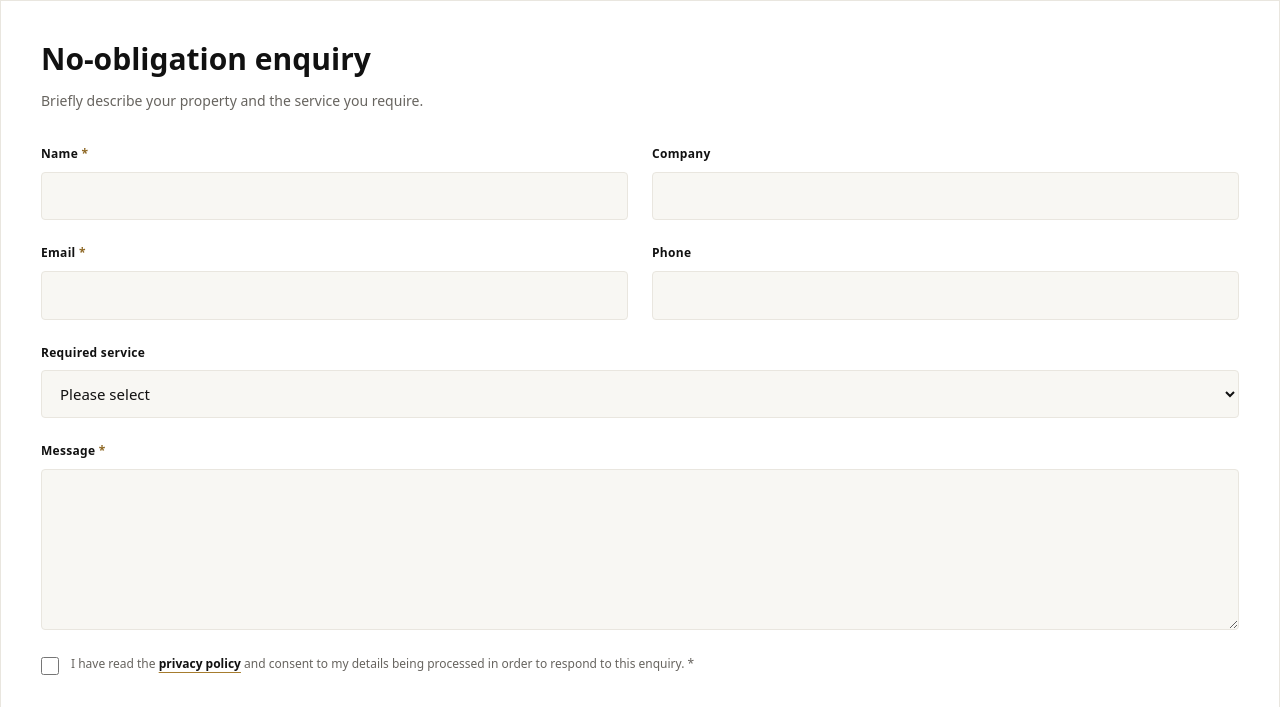
ContactForm › shows accessible field errors and preserves values after validation fails
The image size is (1280, 707).
Type "Erika Muster" into the field labelled "Name *". click: (334, 196)
box: [41, 172, 628, 220]
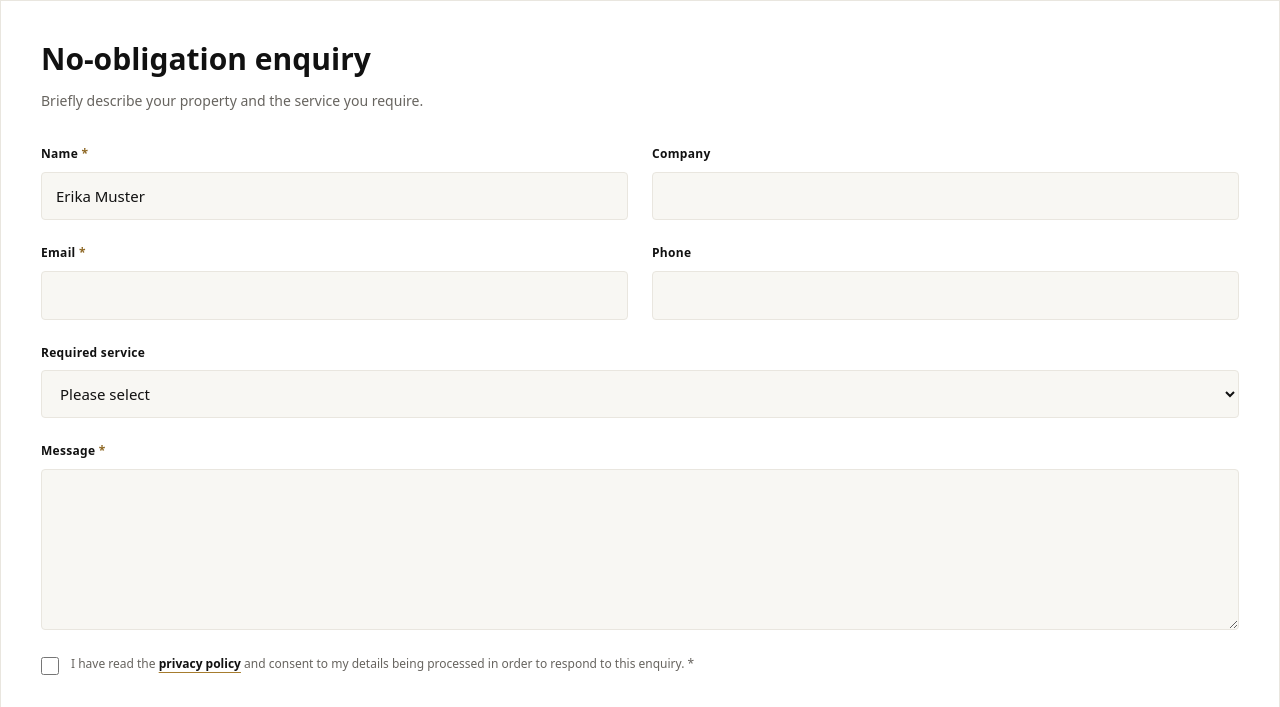
Type "invalid" into the field labelled "Email *". click: (334, 295)
box: [41, 271, 628, 320]
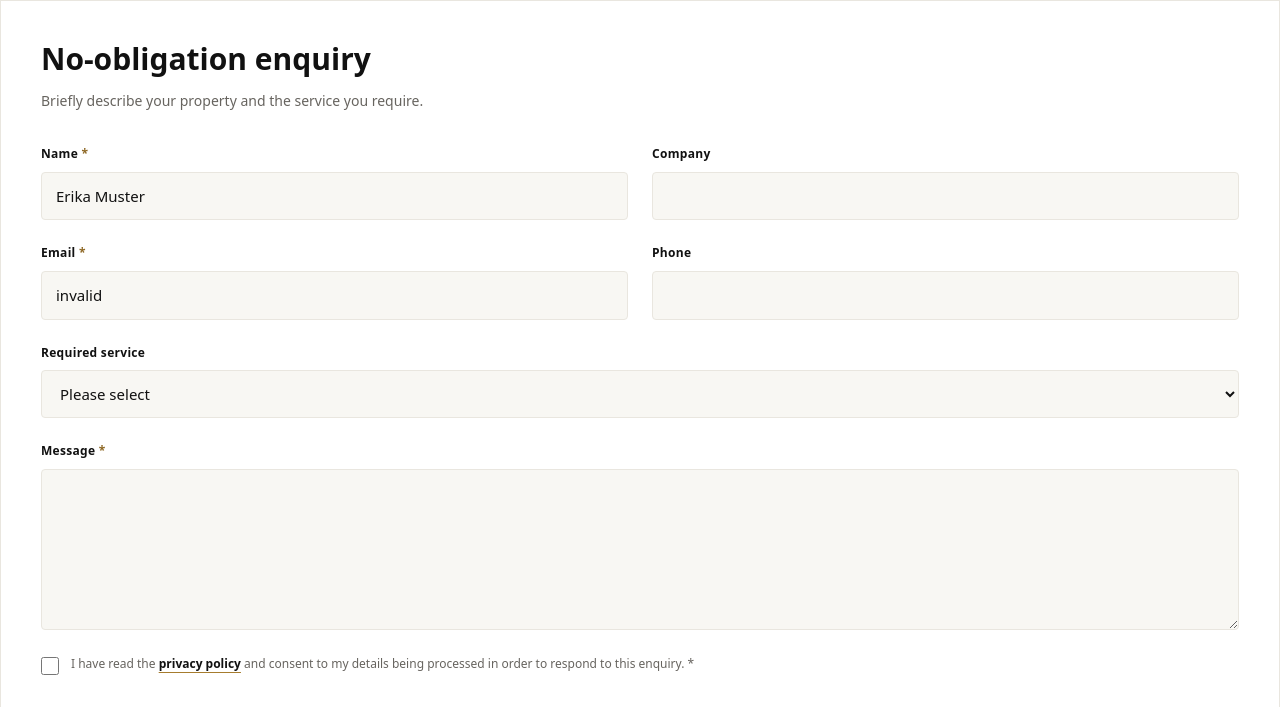
Submit the form
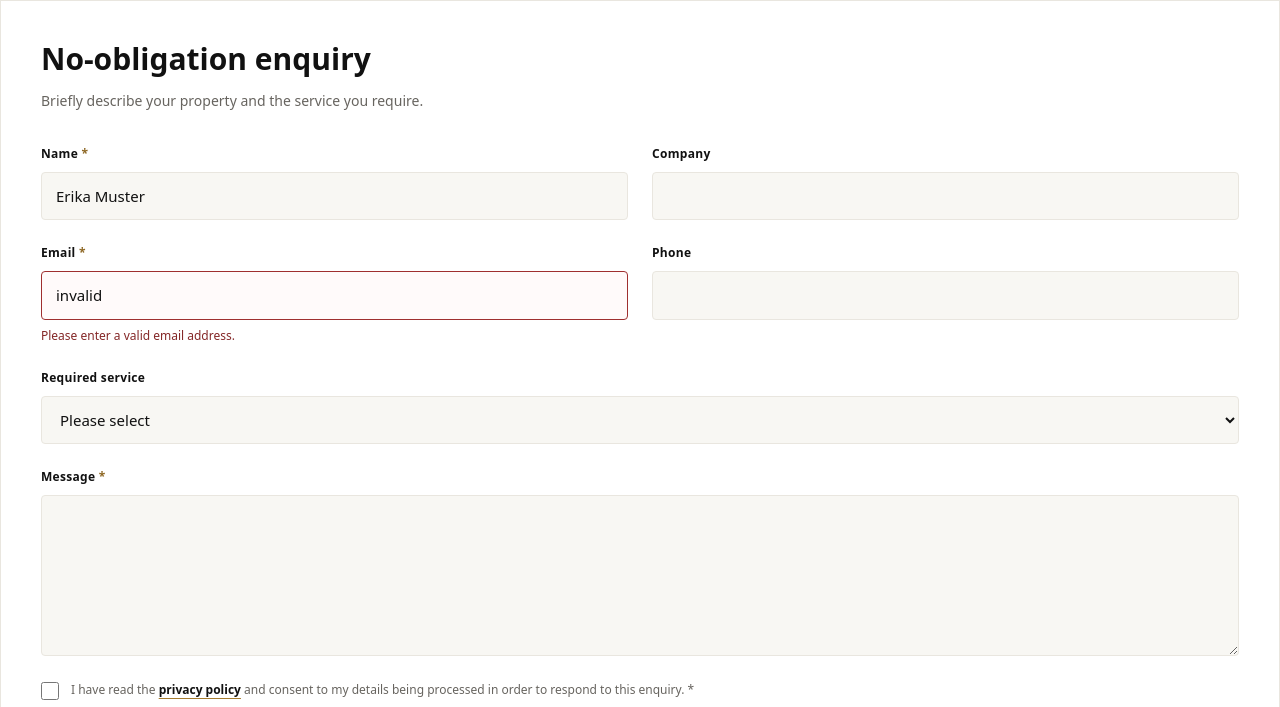
Now the text "Please enter a valid email address." is shown, box [41, 327, 235, 344]
